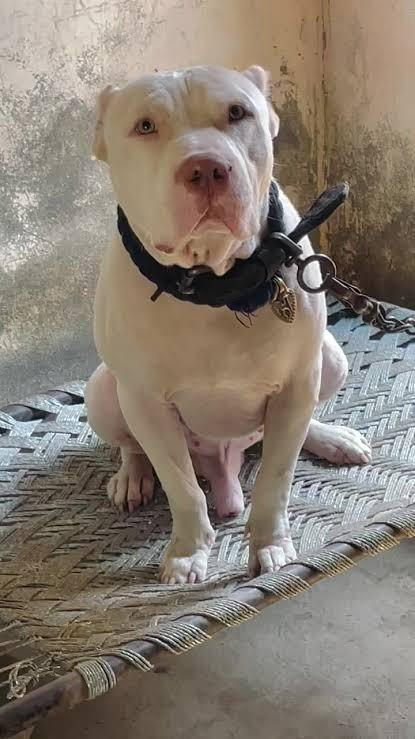adult_dog: (80, 64, 375, 593)
